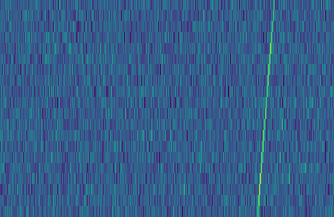signal: (254, 0, 281, 217)
